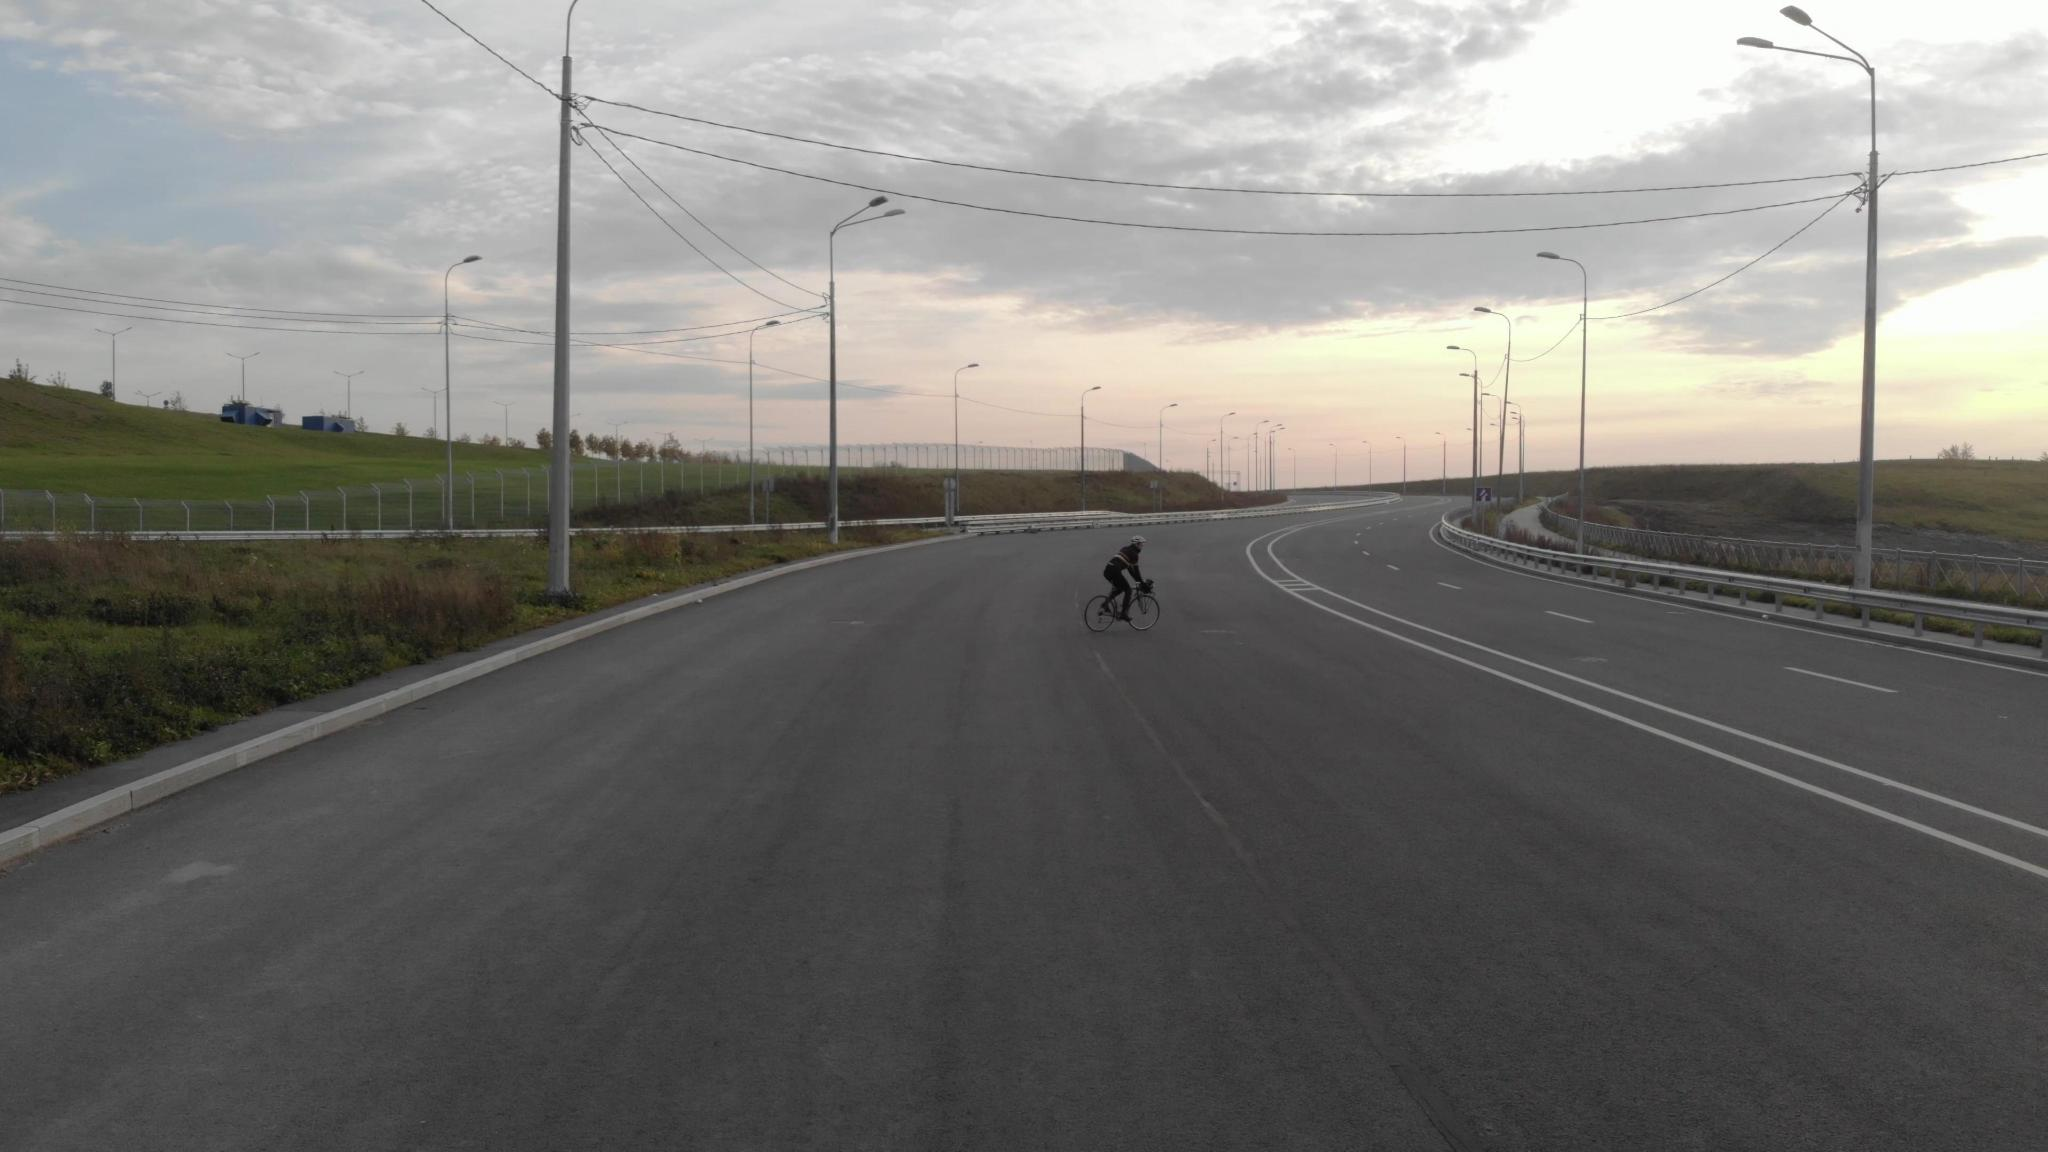cyclist: (1080, 526, 1166, 656)
